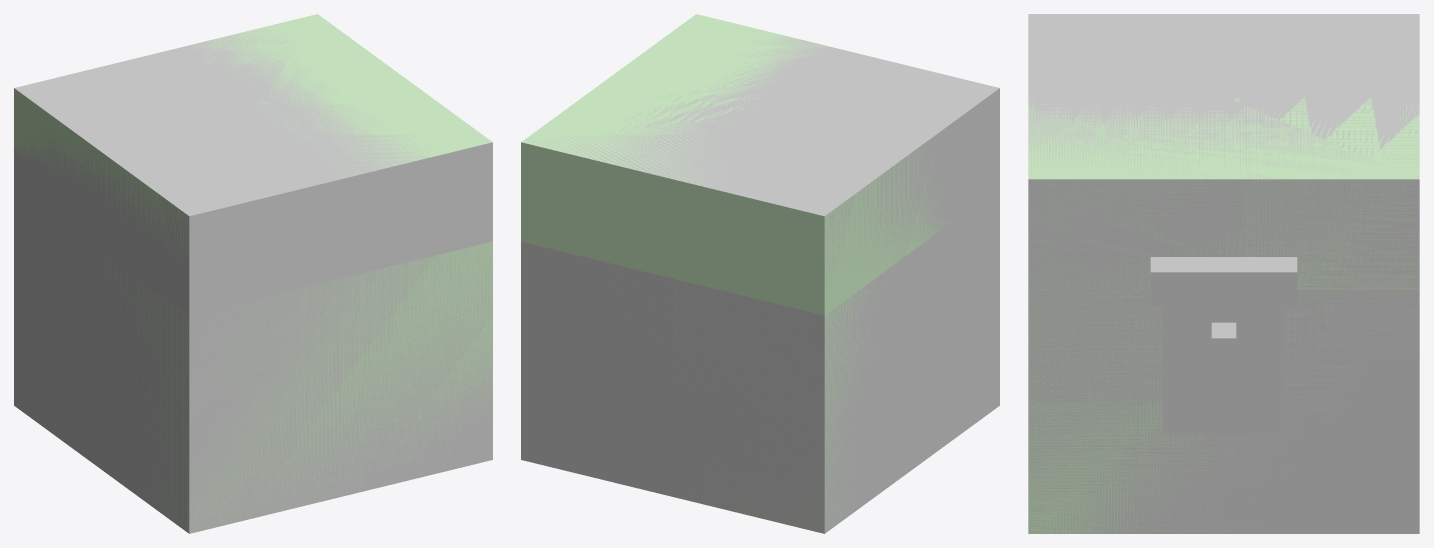
The model's file is chest.fbx.
The picture shows the model from 3 angles, left to right: view 1: azimuth 30°, elevation 25°; view 2: azimuth 150°, elevation 25°; view 3: azimuth 270°, elevation 25°; orthographic projection. The views are drawn at different scales.
Parts seen in each view (by area): view 1: bottom.003, lid.003, hammermesh-8; view 2: bottom.003, hammermesh-8, lid.003; view 3: lid.003, bottom.003, hammermesh-8, latch.003.
Part boxes in pixels (x1,y1,x2,y2): bottom.003: (14, 187, 492, 533); lid.003: (14, 24, 492, 315); hammermesh-8: (14, 14, 492, 533); bottom.003: (521, 187, 999, 533); hammermesh-8: (521, 14, 954, 532); lid.003: (526, 31, 999, 303); lid.003: (1028, 14, 1419, 305); bottom.003: (1028, 290, 1419, 533); hammermesh-8: (1028, 89, 1419, 533); latch.003: (1163, 305, 1284, 433).
Bounding box in the file's own units: 55.5 × 48 × 48.
